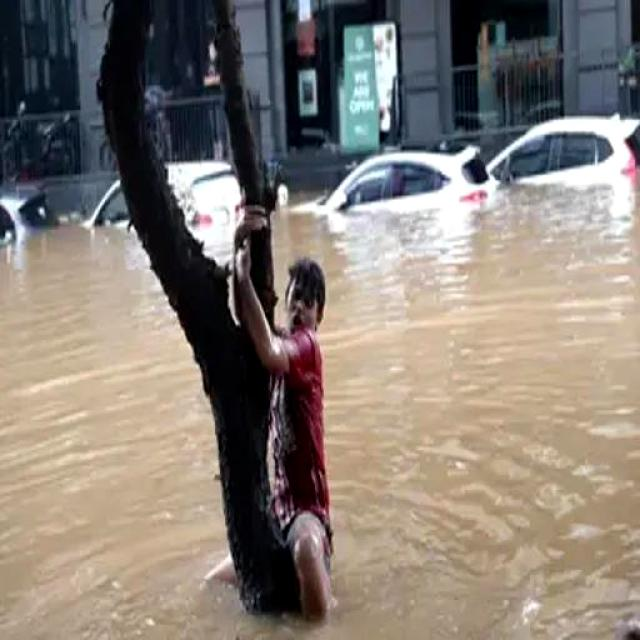civilian: (217, 200, 350, 637)
